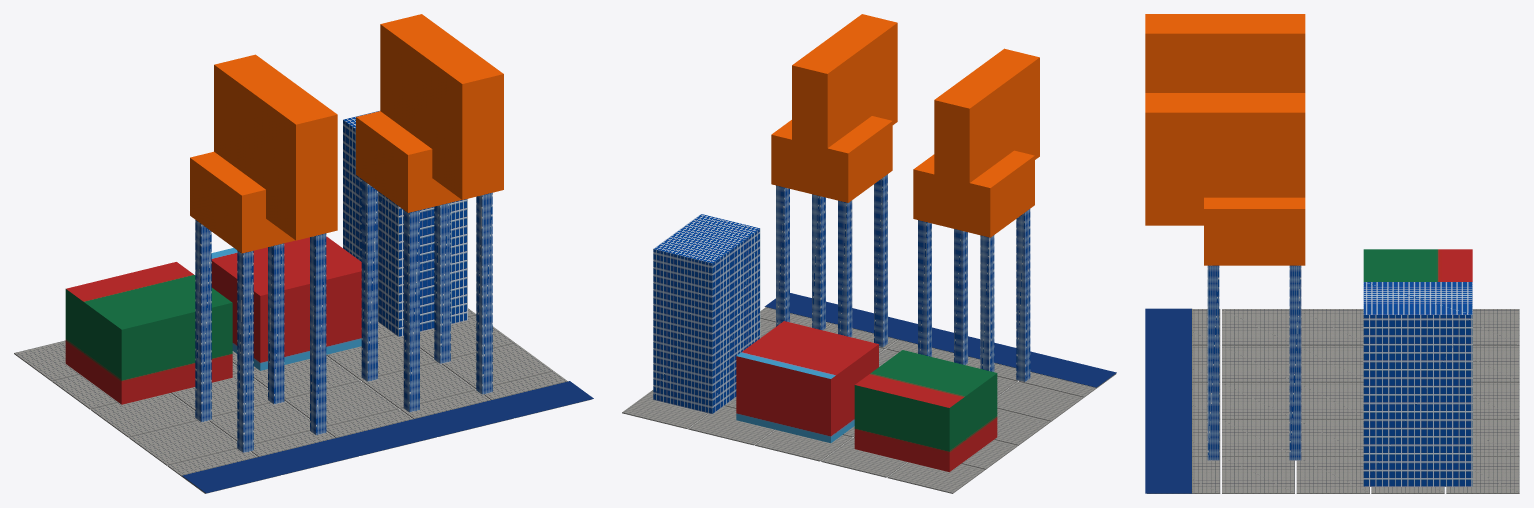
3 renders of one model, left to right at view 1: azimuth 30°, elevation 25°; view 2: azimuth 150°, elevation 25°; view 3: azimuth 270°, elevation 25°, orthographic. The views are drawn at different scales.
Visible parts, largest first — view 1: 28185_B49_Incheon_New_Port_Container_Terminal; view 2: 28185_B49_Incheon_New_Port_Container_Terminal; view 3: 28185_B49_Incheon_New_Port_Container_Terminal.
Part boxes in pixels (x1,y1,x2,y2): 28185_B49_Incheon_New_Port_Container_Terminal: (14, 14, 593, 493); 28185_B49_Incheon_New_Port_Container_Terminal: (622, 14, 1116, 493); 28185_B49_Incheon_New_Port_Container_Terminal: (1145, 14, 1519, 493).
Bounding box in the file's own units: 56 × 48 × 48.
1 material, 1 textured.
